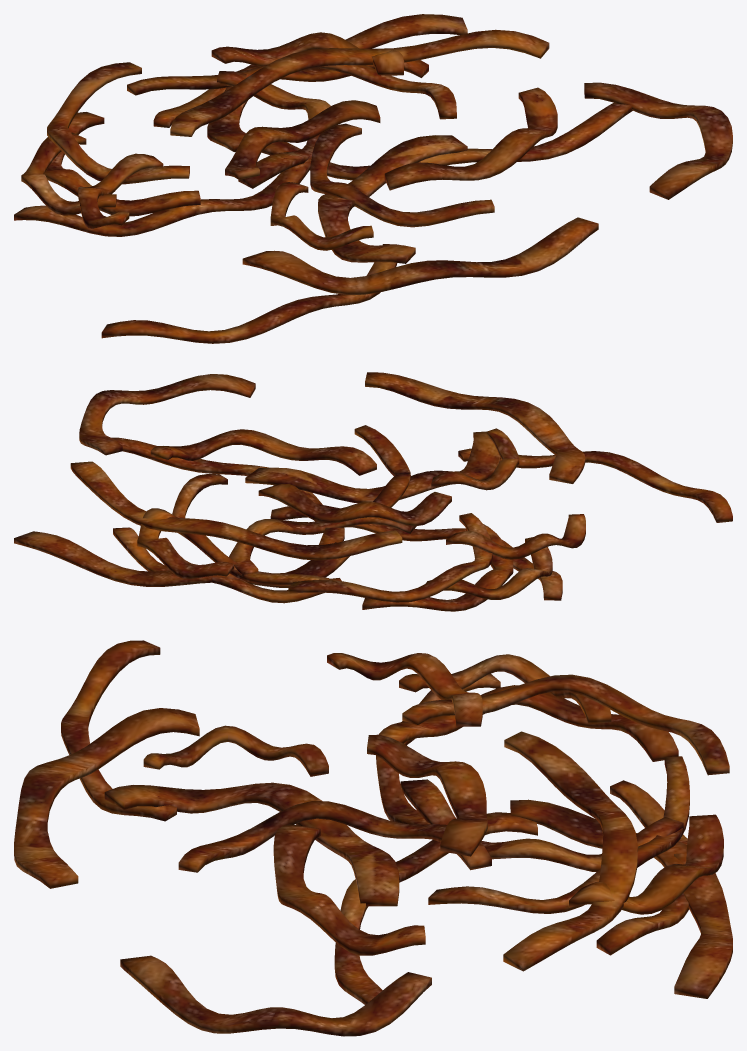
The model's file is savory-caramelized-onion.glb.
The picture shows the model from 3 angles, top to bottom: view 1: azimuth 30°, elevation 25°; view 2: azimuth 150°, elevation 25°; view 3: azimuth 270°, elevation 25°; orthographic projection. The views are drawn at different scales.
Visible parts, largest first — view 1: savory-caramelized-onion; view 2: savory-caramelized-onion; view 3: savory-caramelized-onion.
Part boxes in pixels (left/top/right/bottom): savory-caramelized-onion: left=14, top=14, right=732, bottom=343; savory-caramelized-onion: left=14, top=372, right=732, bottom=611; savory-caramelized-onion: left=14, top=640, right=732, bottom=1036.
Size of the model in its own units: 2.12 by 0.1418 by 1.61.
1 material, 1 textured.
